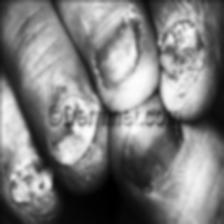Non-Cancerous Skin Condition: (69, 0, 198, 88), (109, 128, 193, 217), (0, 150, 68, 224)
